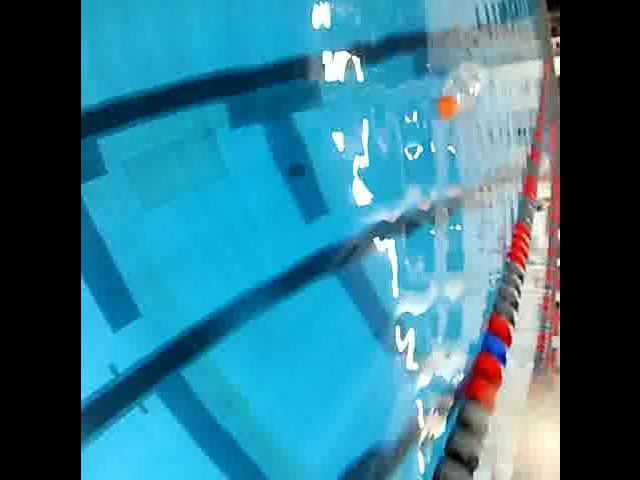Bottle: (429, 56, 492, 137)
